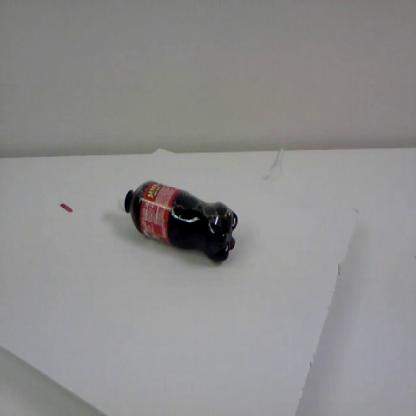bottle: (112, 175, 238, 268)
